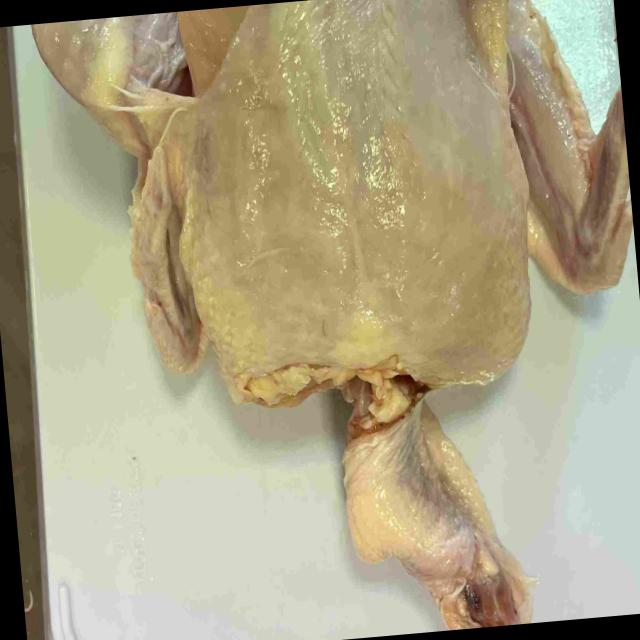breast: (179, 0, 529, 383)
leg: (30, 11, 188, 157)
neck: (339, 368, 531, 630)
wing: (508, 0, 633, 294), (130, 141, 204, 375)
